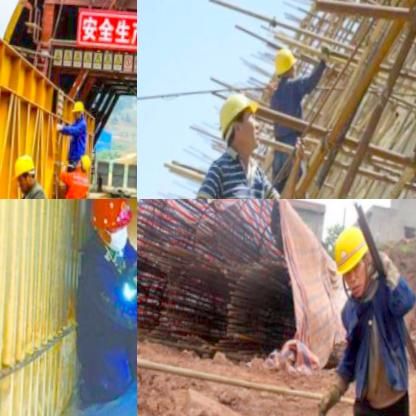helmet: (331, 220, 379, 298), (217, 87, 265, 154), (87, 199, 136, 251), (270, 43, 299, 83), (15, 151, 41, 195), (76, 149, 97, 177), (72, 97, 87, 117)
